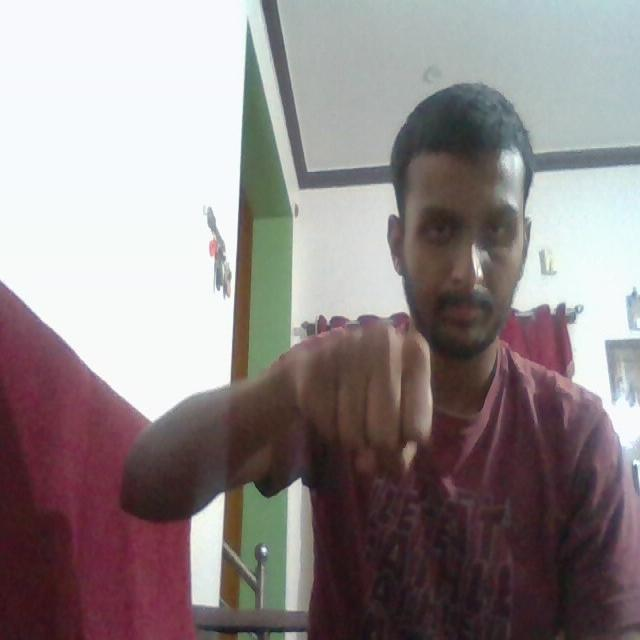yes: (261, 313, 460, 482)
